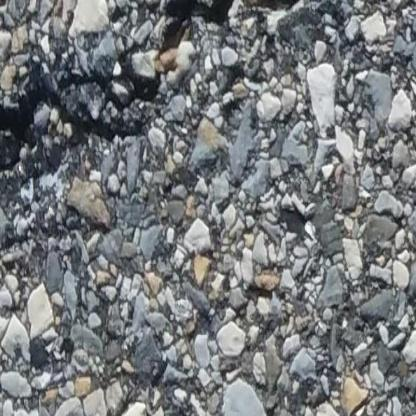Cracks: (0, 68, 170, 159), (151, 0, 338, 55)
